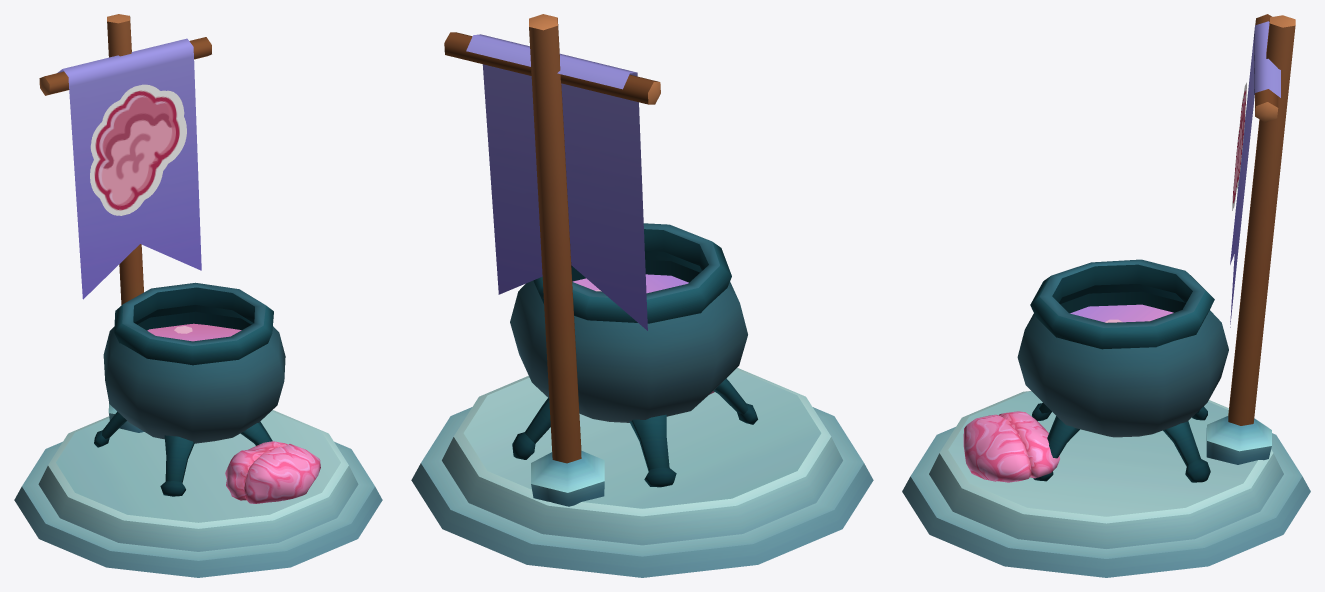
Rendered from env_Currency_Bowl_Brains_v01.fbx.
The picture shows the model from 3 angles, left to right: view 1: azimuth 30°, elevation 25°; view 2: azimuth 150°, elevation 25°; view 3: azimuth 270°, elevation 25°; orthographic projection. The views are drawn at different scales.
Parts seen in each view (by area): view 1: Bowl_for_Currency_2_Brains, Flag_brain, Flag_brain.001, Loot_Brain.001; view 2: Bowl_for_Currency_2_Brains, Flag_brain; view 3: Bowl_for_Currency_2_Brains, Flag_brain, Loot_Brain.001, Flag_brain.001.
Boxes of the visible parts, x1,y1,x2,y2 form: Bowl_for_Currency_2_Brains: (14, 282, 382, 577); Flag_brain: (39, 14, 211, 432); Flag_brain.001: (90, 84, 186, 215); Loot_Brain.001: (225, 441, 320, 503); Bowl_for_Currency_2_Brains: (411, 223, 873, 577); Flag_brain: (444, 14, 660, 506); Bowl_for_Currency_2_Brains: (902, 259, 1310, 577); Flag_brain: (1206, 14, 1295, 464); Loot_Brain.001: (963, 411, 1059, 482); Flag_brain.001: (1232, 82, 1246, 210).
Size of the model in its own units: 375 by 478 by 375.
